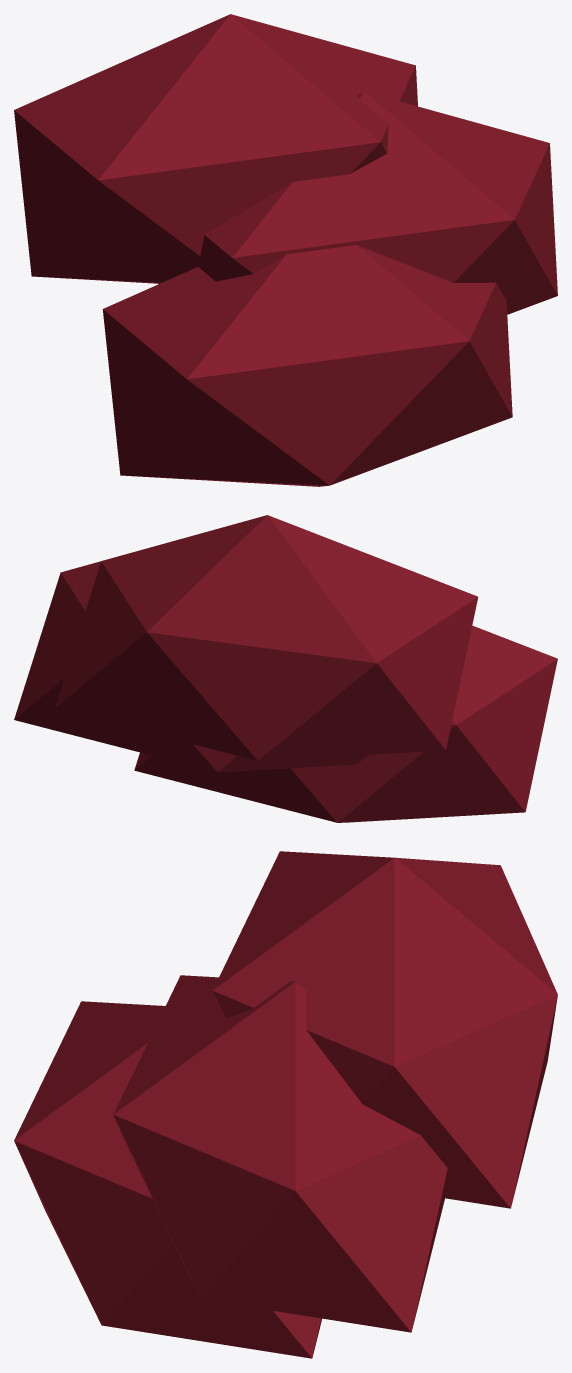
The model's file is w3d_item_berries_m.glb.
3 views of the same model, one above another, from view 1: azimuth 30°, elevation 25°; view 2: azimuth 150°, elevation 25°; view 3: azimuth 270°, elevation 25° (orthographic). The views are drawn at different scales.
Visible parts, largest first — view 1: item_017_berries_m; view 2: item_017_berries_m; view 3: item_017_berries_m.
Part boxes in pixels (<box>): item_017_berries_m: <box>14,14,557,486</box>; item_017_berries_m: <box>14,515,557,822</box>; item_017_berries_m: <box>14,851,557,1358</box>.
Bounding box in the file's own units: 0.3701 × 0.3043 × 0.3286.
